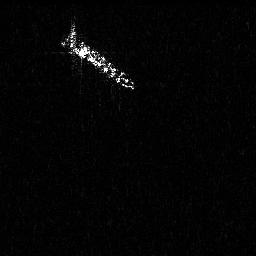ship: (58, 22, 137, 93)
